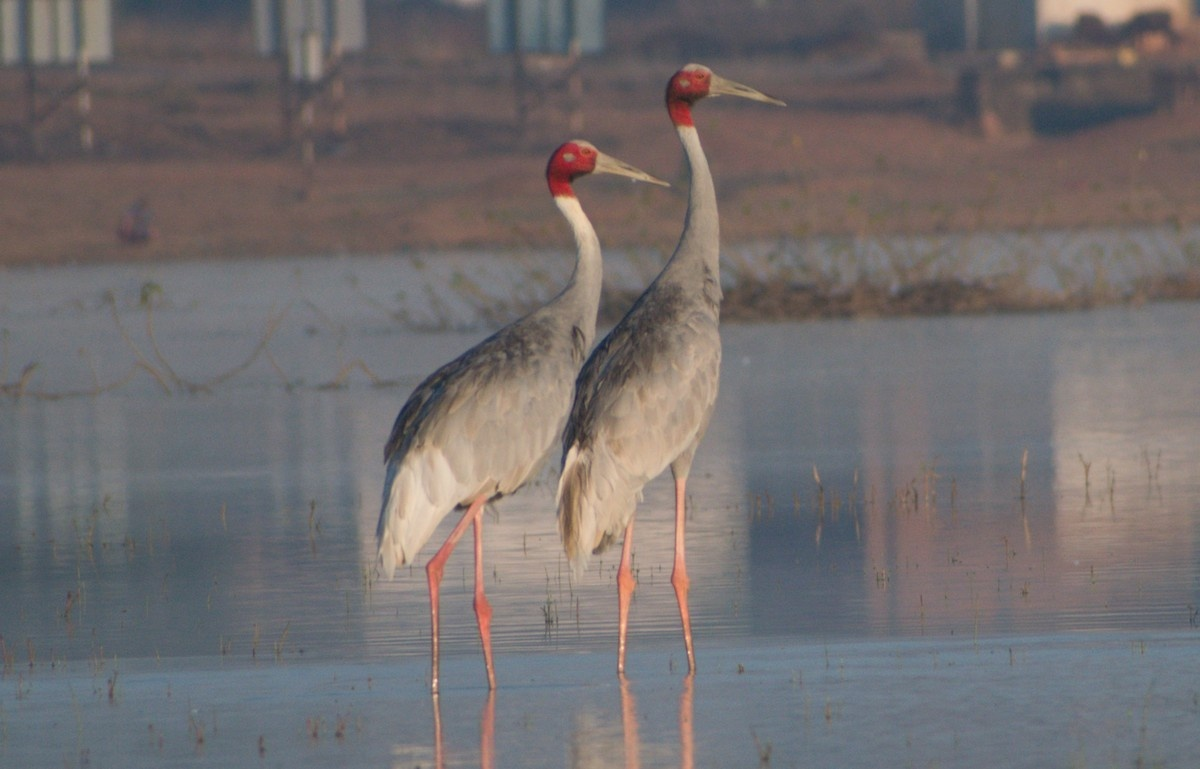crane: (373, 135, 677, 709), (568, 53, 795, 715)
